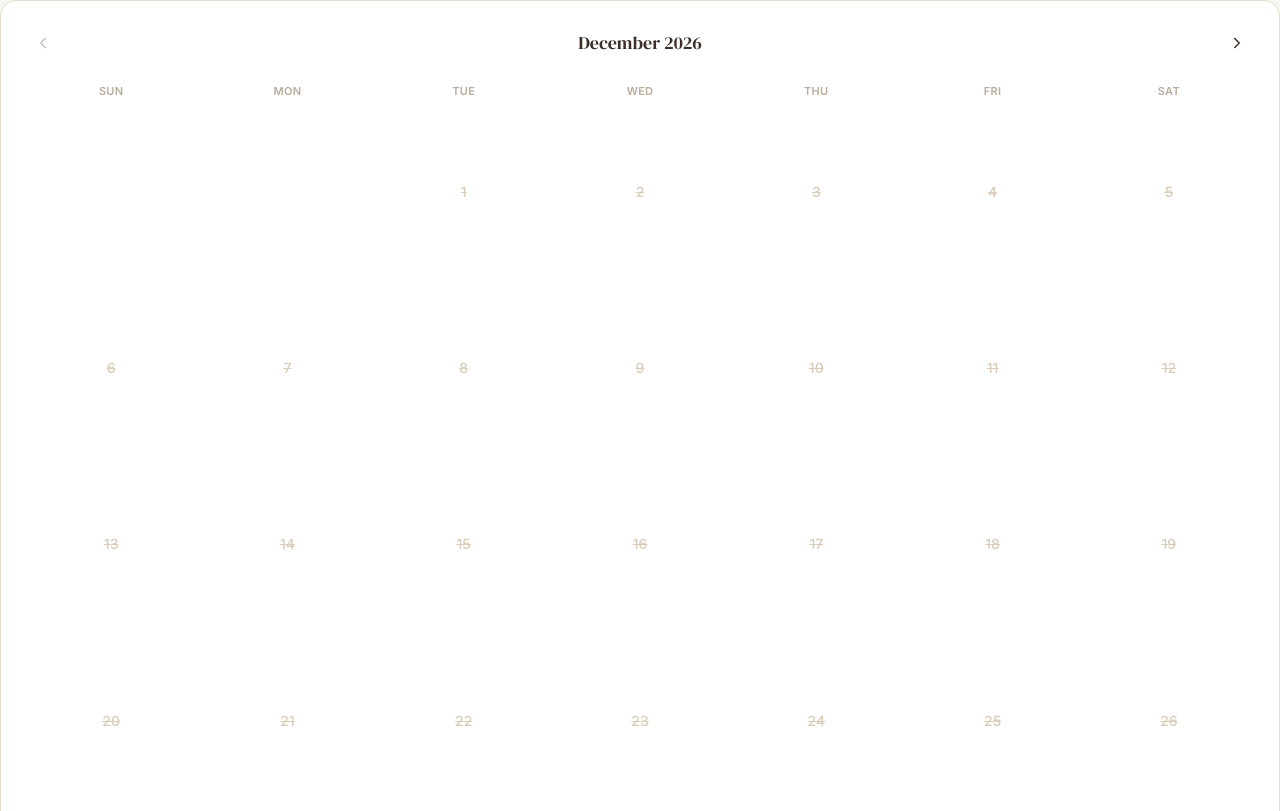
Test: Calendar opening month › opens on the current month even when the earliest bookable date is already in the next month
The width and height of the screenshot is (1280, 811).
Expected: the button named "Previous month" is disabled, [25,25,61,61]
What coordinates should you click on to do the following:
click the button named "Next month"
I would click on:
 (1237, 43)
Its box is [1219,25,1255,61].
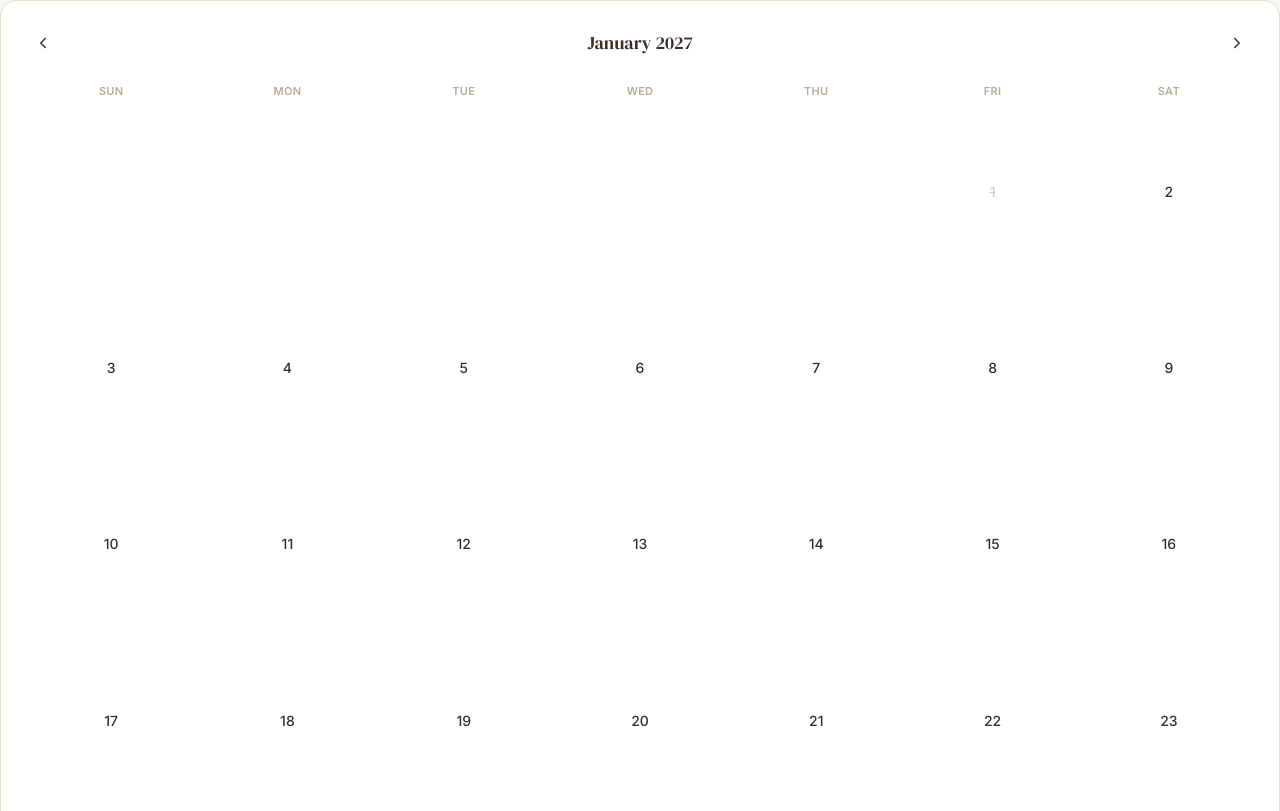
Result: the text "January 2027" is shown at [588,29,692,57]
Result: the button named "Saturday, January 2, 2027" is enabled at [1083,106,1255,278]
